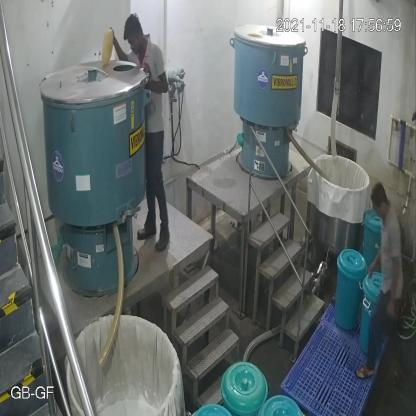no_shoes: (355, 364, 374, 382)
